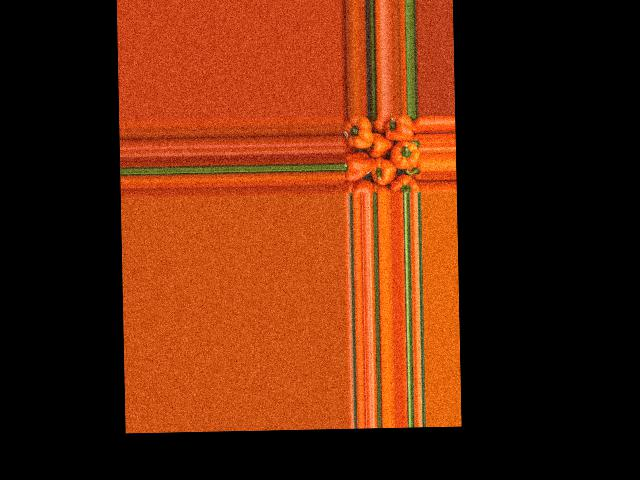bell_pepper: (342, 180, 374, 193)
